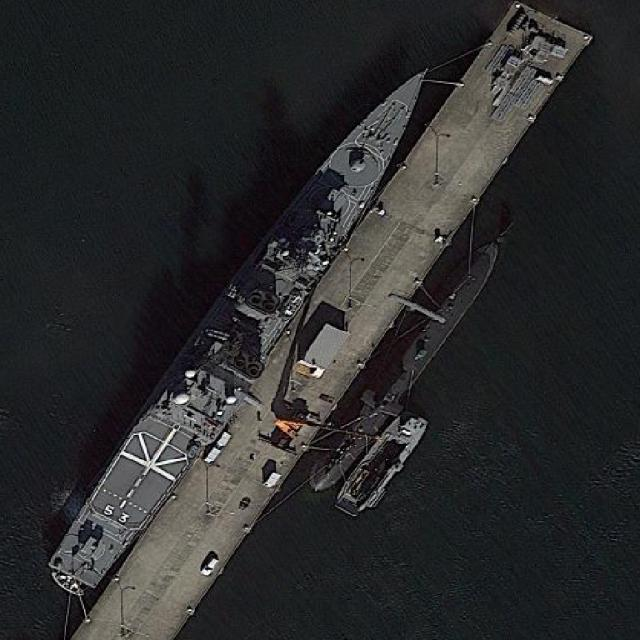Destroyer: (40, 49, 454, 598)
Other Warship: (328, 400, 433, 528)
Submarine: (297, 228, 511, 502)
